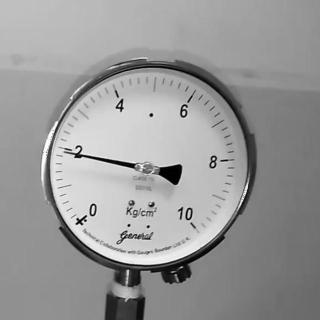gauge: (20, 51, 264, 272), (70, 199, 102, 233), (181, 212, 203, 235), (140, 160, 156, 176), (61, 146, 72, 156)
